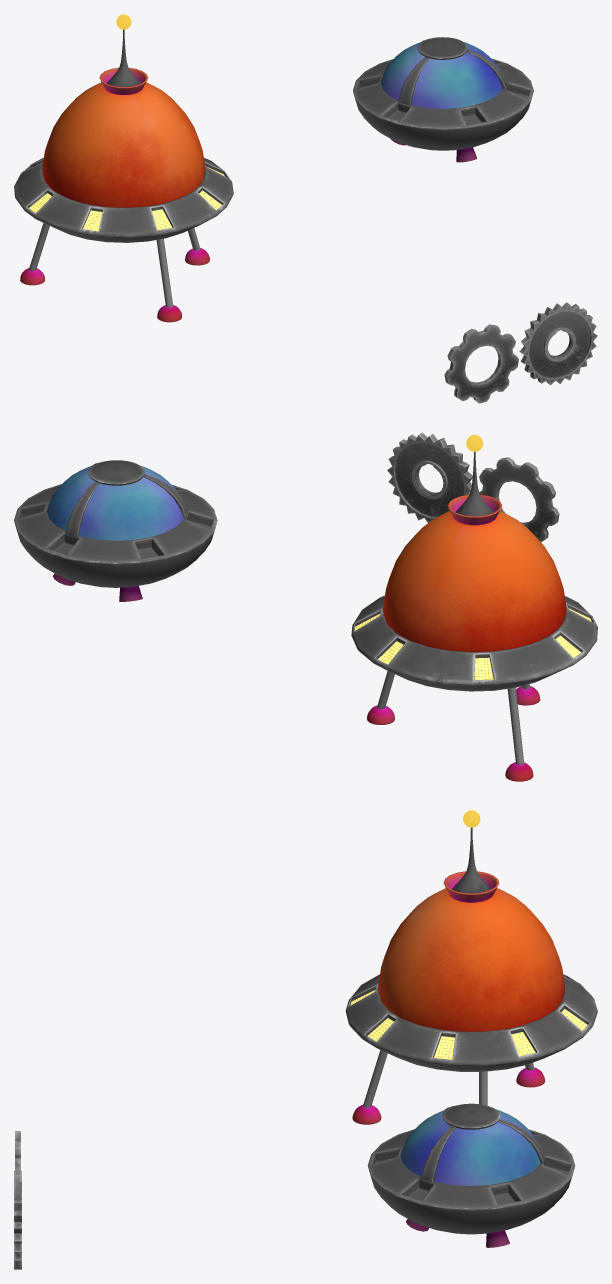
The model's file is Zlo.fbx.
3 renders of one model, top to bottom at view 1: azimuth 30°, elevation 25°; view 2: azimuth 150°, elevation 25°; view 3: azimuth 270°, elevation 25°, orthographic. The views are drawn at different scales.
Visible parts, largest first — view 1: zlo_b_kupol_low, zlo_b_metal_low, metal_zlo_prost_low, Kupol_zlo_prost_low, gear2_low, gear1_low, decor_verh_zlo_prost_low, decor_zlo_prost_low, zlo_b_mnz_low, zlo_b_kolp_low, zlo_b_nozka2_low; view 2: zlo_b_kupol_low, zlo_b_metal_low, metal_zlo_prost_low, Kupol_zlo_prost_low, gear2_low, gear1_low, decor_verh_zlo_prost_low, decor_zlo_prost_low, zlo_b_mnz_low, zlo_b_kolp_low, zlo_b_nozka1_low; view 3: zlo_b_kupol_low, zlo_b_metal_low, metal_zlo_prost_low, Kupol_zlo_prost_low, decor_verh_zlo_prost_low, decor_zlo_prost_low, zlo_b_mnz_low, gear2_low, zlo_b_kolp_low.
Part boxes in pixels (x1=…): zlo_b_kupol_low: x1=42, y1=82, x2=205, y2=207; zlo_b_metal_low: x1=14, y1=157, x2=233, y2=242; metal_zlo_prost_low: x1=353, y1=58, x2=533, y2=150; Kupol_zlo_prost_low: x1=380, y1=42, x2=502, y2=108; gear2_low: x1=519, y1=302, x2=597, y2=385; gear1_low: x1=444, y1=324, x2=518, y2=403; decor_verh_zlo_prost_low: x1=417, y1=37, x2=467, y2=59; decor_zlo_prost_low: x1=398, y1=39, x2=507, y2=105; zlo_b_mnz_low: x1=99, y1=68, x2=148, y2=94; zlo_b_kolp_low: x1=107, y1=29, x2=140, y2=86; zlo_b_nozka2_low: x1=156, y1=238, x2=173, y2=307; zlo_b_kupol_low: x1=383, y1=511, x2=566, y2=651; zlo_b_metal_low: x1=351, y1=595, x2=597, y2=691; metal_zlo_prost_low: x1=14, y1=484, x2=217, y2=587; Kupol_zlo_prost_low: x1=47, y1=465, x2=183, y2=540; gear2_low: x1=387, y1=432, x2=472, y2=522; gear1_low: x1=479, y1=457, x2=559, y2=542; decor_verh_zlo_prost_low: x1=88, y1=460, x2=144, y2=485; decor_zlo_prost_low: x1=65, y1=462, x2=188, y2=537; zlo_b_mnz_low: x1=447, y1=494, x2=502, y2=525; zlo_b_kolp_low: x1=455, y1=452, x2=493, y2=516; zlo_b_nozka1_low: x1=507, y1=687, x2=524, y2=764; zlo_b_kupol_low: x1=378, y1=888, x2=564, y2=1031; zlo_b_metal_low: x1=345, y1=974, x2=597, y2=1071; metal_zlo_prost_low: x1=367, y1=1129, x2=575, y2=1234; Kupol_zlo_prost_low: x1=400, y1=1109, x2=540, y2=1185; decor_verh_zlo_prost_low: x1=442, y1=1103, x2=500, y2=1129; decor_zlo_prost_low: x1=420, y1=1106, x2=545, y2=1182; zlo_b_mnz_low: x1=443, y1=871, x2=499, y2=902; gear2_low: x1=14, y1=1170, x2=21, y2=1269; zlo_b_kolp_low: x1=452, y1=827, x2=490, y2=893.
Size of the model in its own units: 326 by 178 by 292.
